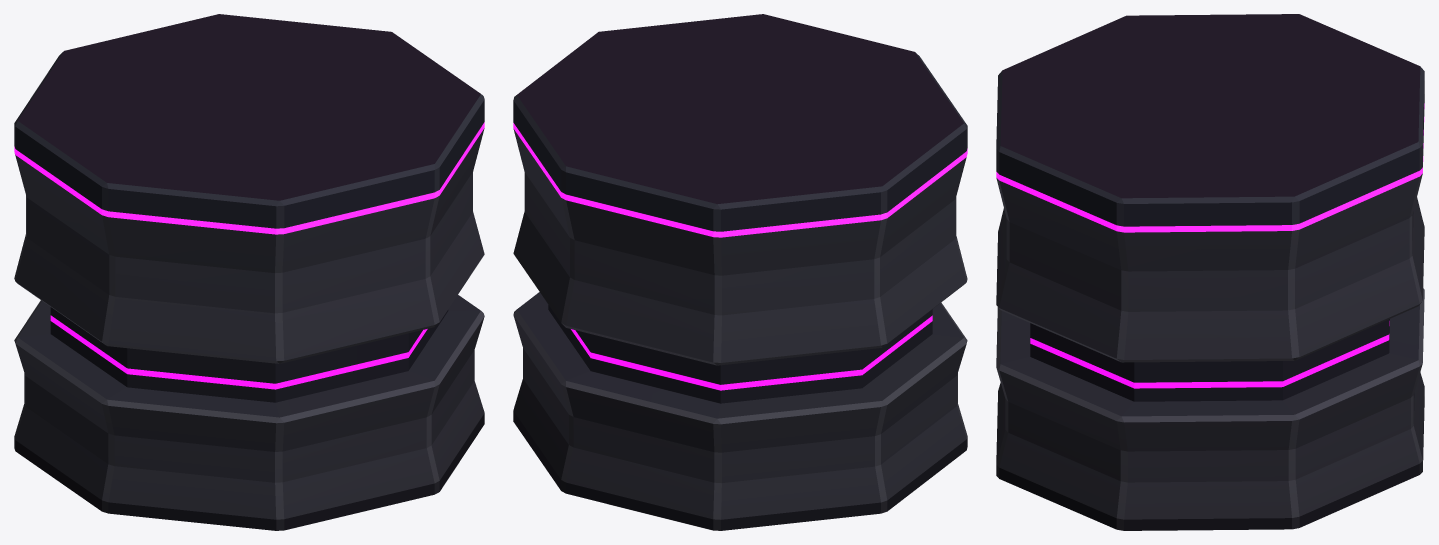
File: bar.fbx
3 renders of one model, left to right at view 1: azimuth 30°, elevation 25°; view 2: azimuth 150°, elevation 25°; view 3: azimuth 270°, elevation 25°, orthographic.
Visible parts, largest first — view 1: Cylinder.013; view 2: Cylinder.013; view 3: Cylinder.013.
Boxes of the visible parts, x1=… form: Cylinder.013: x1=14, y1=14, x2=484, y2=530; Cylinder.013: x1=513, y1=14, x2=967, y2=530; Cylinder.013: x1=996, y1=14, x2=1424, y2=530.
Size of the model in its own units: 486 by 399 by 469.
